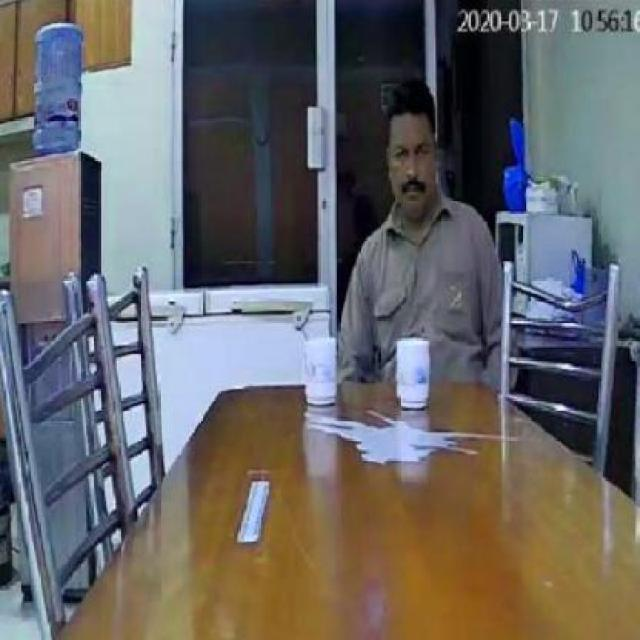spillage: (310, 404, 476, 465)
